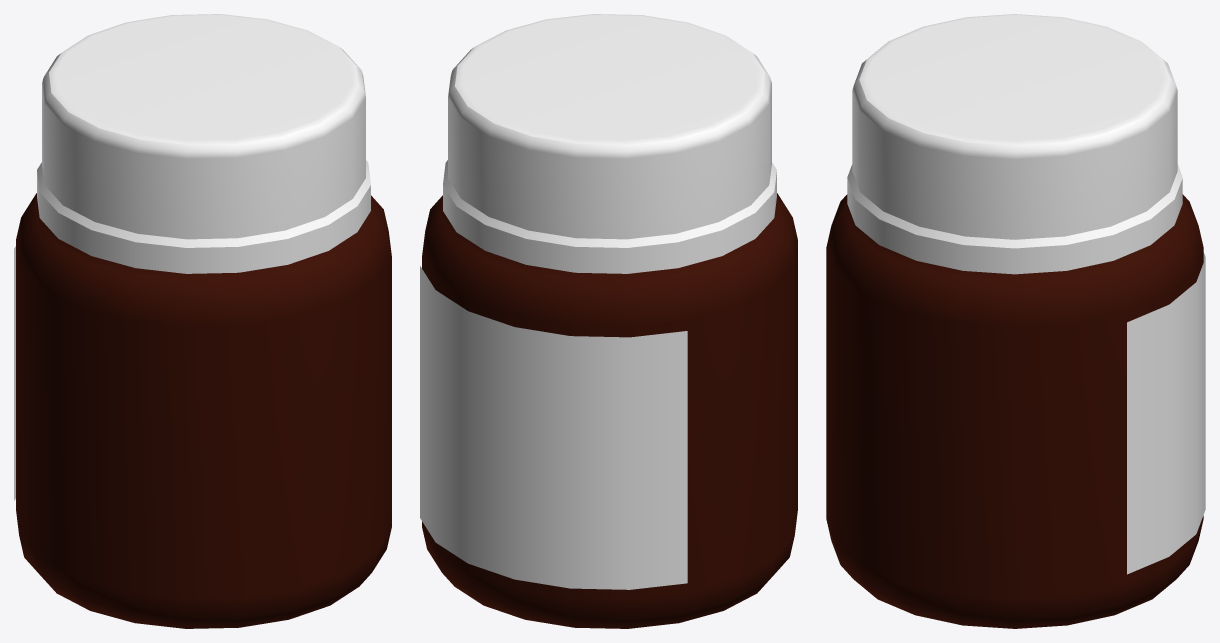
Rendered from rivot.gltf.
3 views of the same model, side by side, from view 1: azimuth 30°, elevation 25°; view 2: azimuth 150°, elevation 25°; view 3: azimuth 270°, elevation 25° (orthographic).
Visible parts, largest first — view 1: pCylinder5, pCylinder7; view 2: pCylinder7, pCylinder8, pCylinder5; view 3: pCylinder5, pCylinder7, pCylinder8.
Boxes of the visible parts, x1,y1,x2,y2 form: pCylinder5: (16, 193, 391, 628); pCylinder7: (37, 14, 370, 273); pCylinder7: (443, 14, 776, 273); pCylinder8: (420, 266, 687, 589); pCylinder5: (422, 193, 797, 628); pCylinder5: (826, 194, 1203, 628); pCylinder7: (847, 14, 1182, 274); pCylinder8: (1127, 252, 1205, 574).
Size of the model in its own units: 0.04 by 0.0567 by 0.0402.
